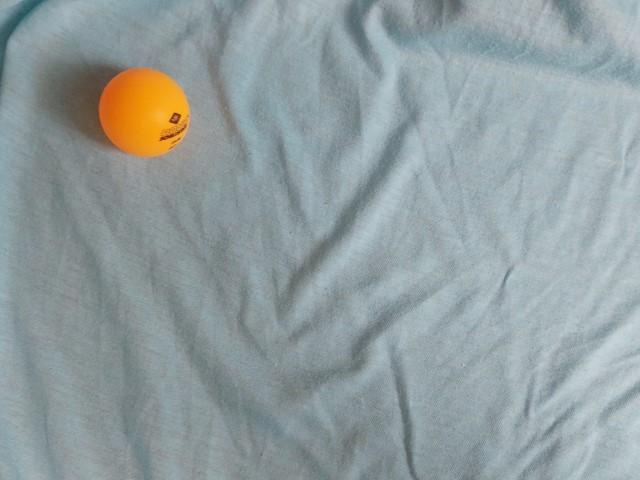oball: (94, 62, 193, 163)
